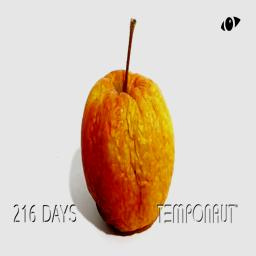Apple Overripe: (82, 0, 180, 235)
